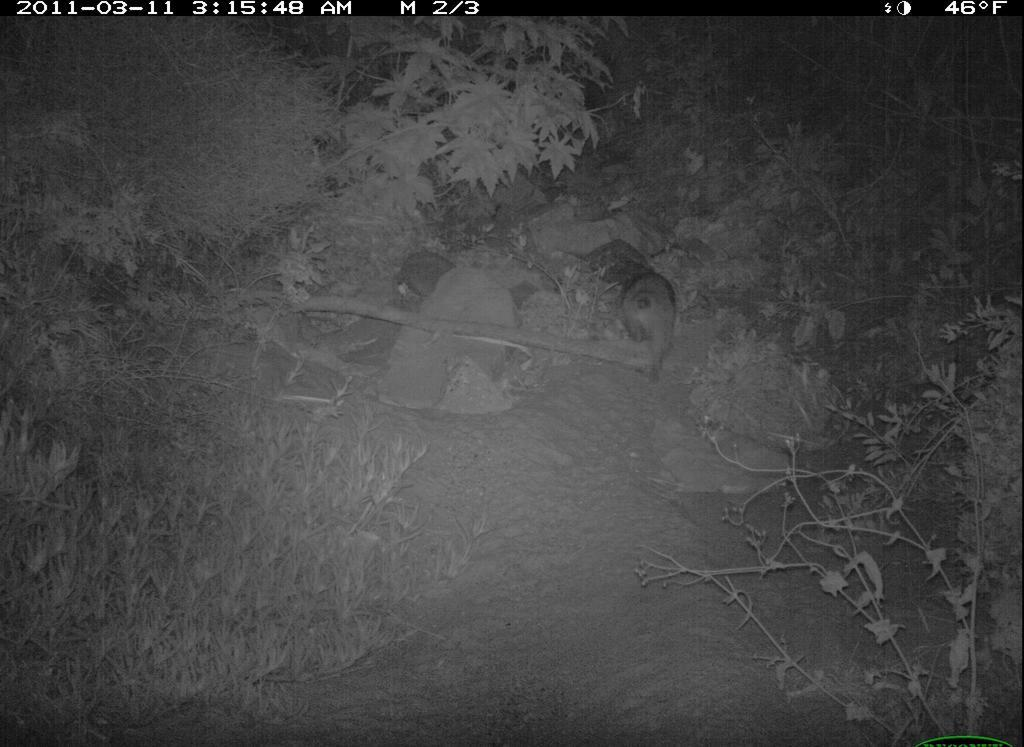raccoon: (610, 258, 690, 388)
